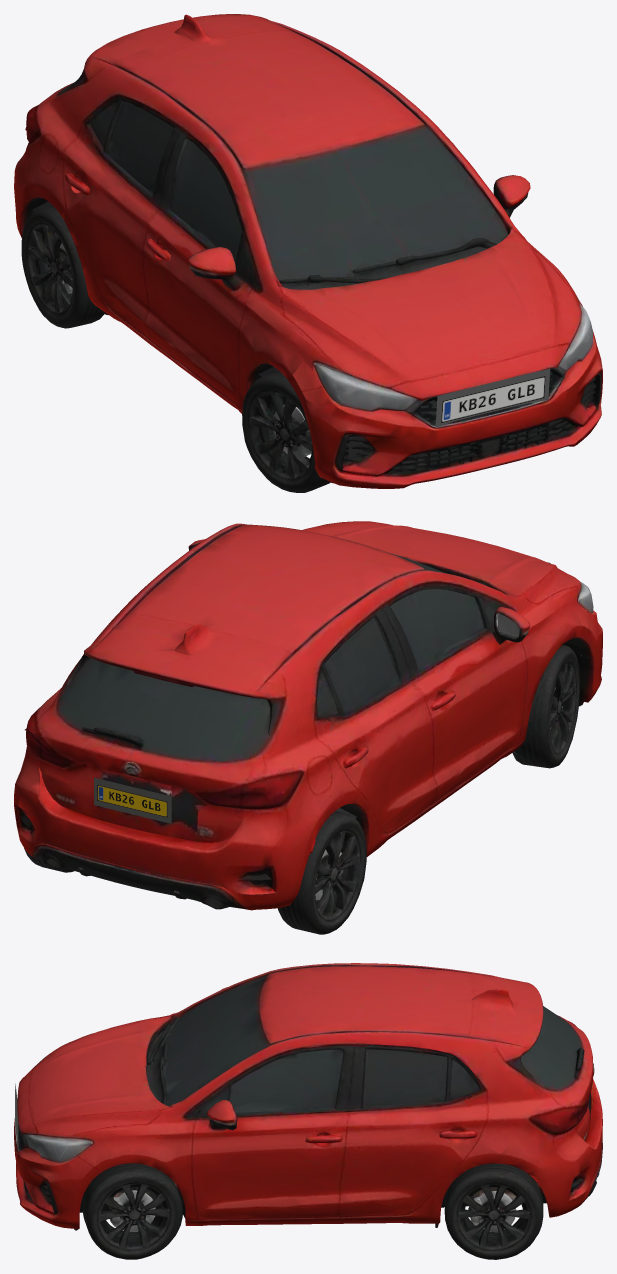
File: car-hatch.glb
3 renders of one model, top to bottom at view 1: azimuth 30°, elevation 25°; view 2: azimuth 150°, elevation 25°; view 3: azimuth 270°, elevation 25°, orthographic. The views are drawn at different scales.
Visible parts, largest first — view 1: body, wheel_FR_mesh, wheel_RR_mesh; view 2: body, wheel_RR_mesh, wheel_FR_mesh; view 3: body, wheel_FL_mesh, wheel_RL_mesh.
Part boxes in pixels (left/top/right/bottom): body: left=14, top=14, right=602, bottom=488; wheel_FR_mesh: left=242, top=361, right=354, bottom=492; wheel_RR_mesh: left=21, top=197, right=107, bottom=328; body: left=14, top=521, right=602, bottom=910; wheel_RR_mesh: left=278, top=803, right=367, bottom=934; wheel_FR_mesh: left=514, top=606, right=593, bottom=768; body: left=14, top=963, right=602, bottom=1249; wheel_FL_mesh: left=53, top=1145, right=184, bottom=1259; wheel_RL_mesh: left=437, top=1143, right=549, bottom=1259.
Bounding box in the file's own units: 2.16 × 1.66 × 4.1.
3 materials, 2 textured.
